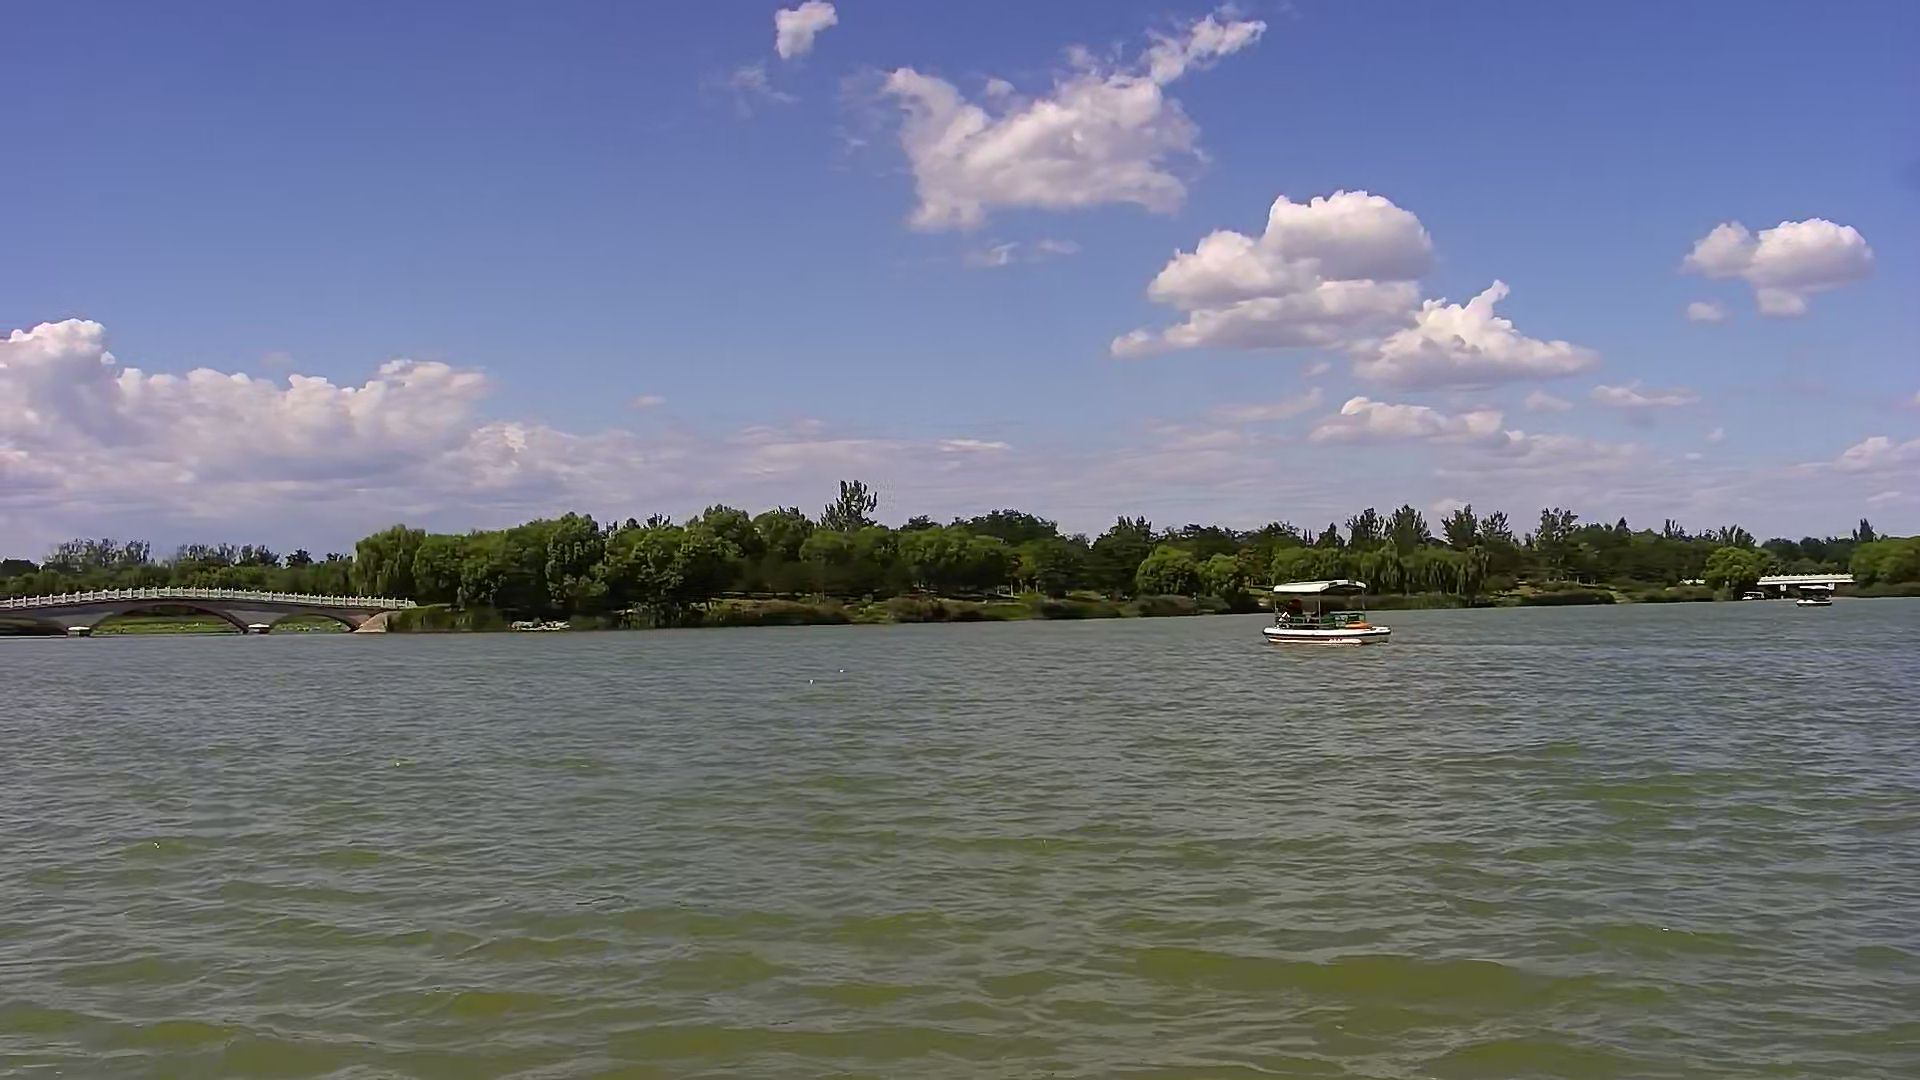boat: (1266, 579, 1393, 653)
bridge: (1, 589, 386, 640), (1758, 568, 1849, 593)
